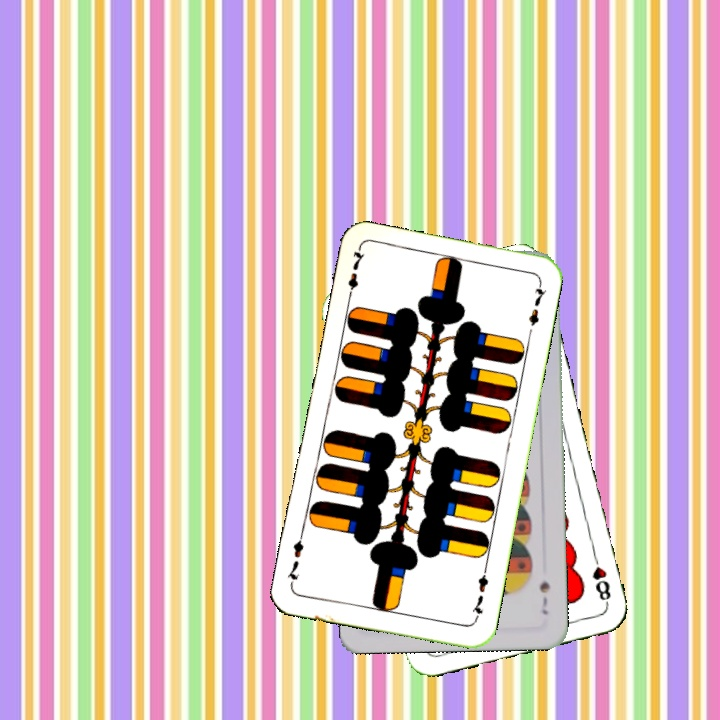E7: (343, 245, 367, 304), (468, 564, 491, 623)
H8: (588, 549, 614, 607)
S7: (536, 577, 553, 617)
